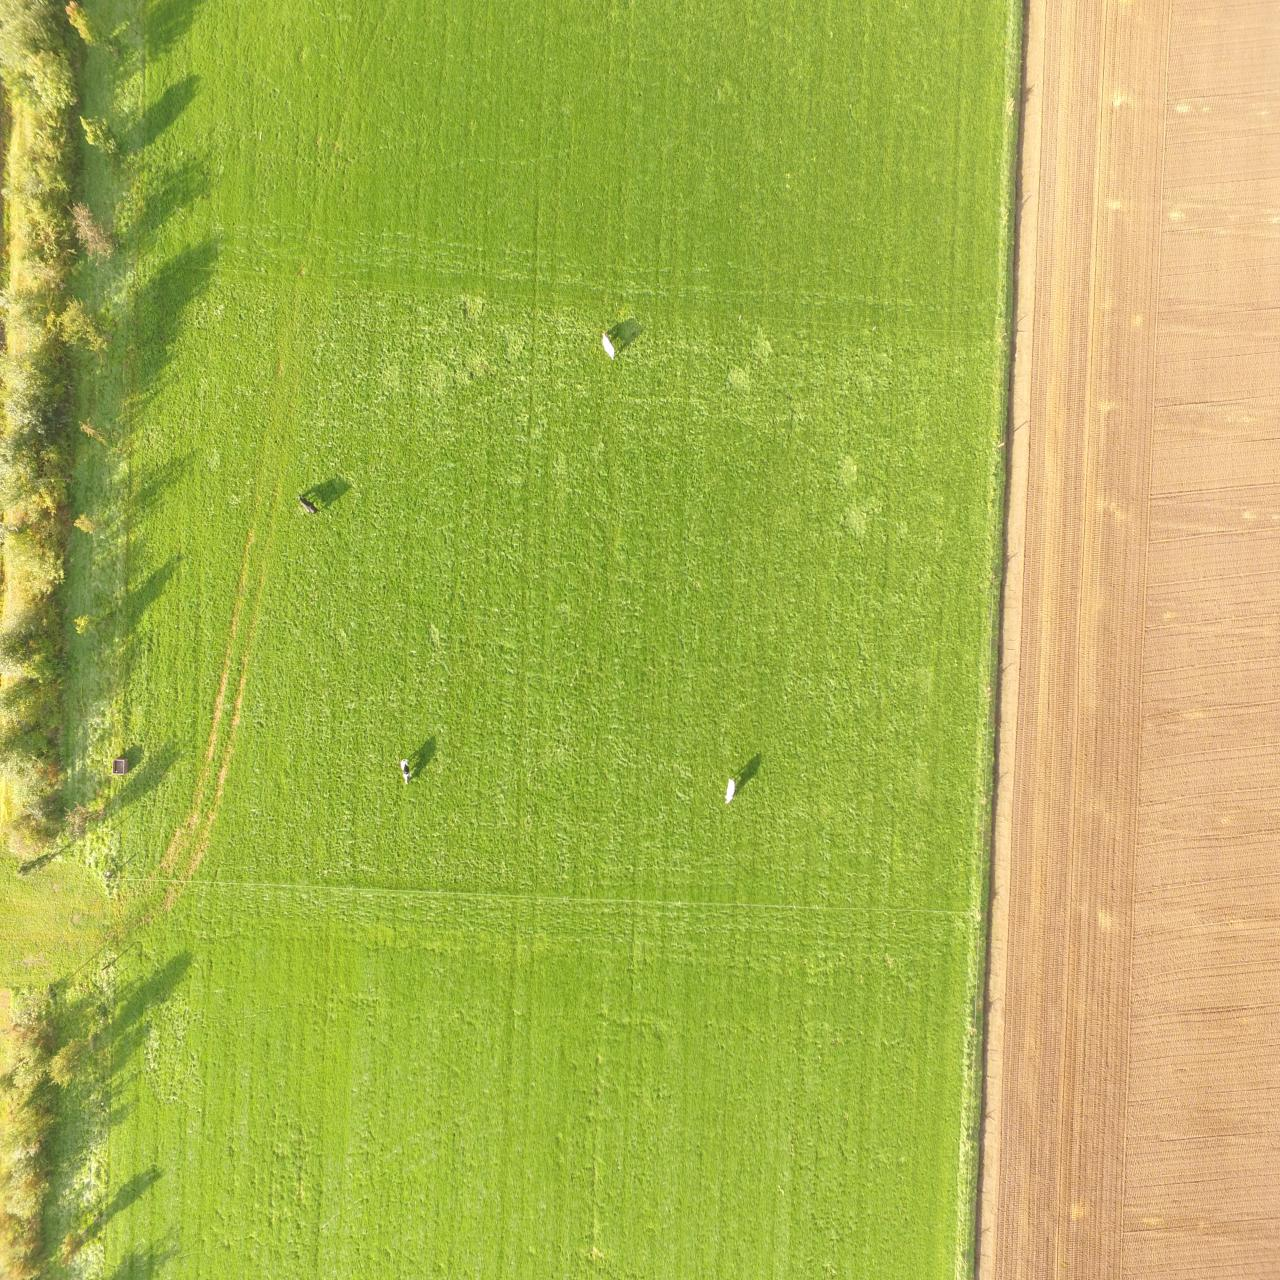cow: (599, 328, 615, 362), (297, 493, 320, 516), (722, 774, 736, 808), (399, 754, 411, 788)
